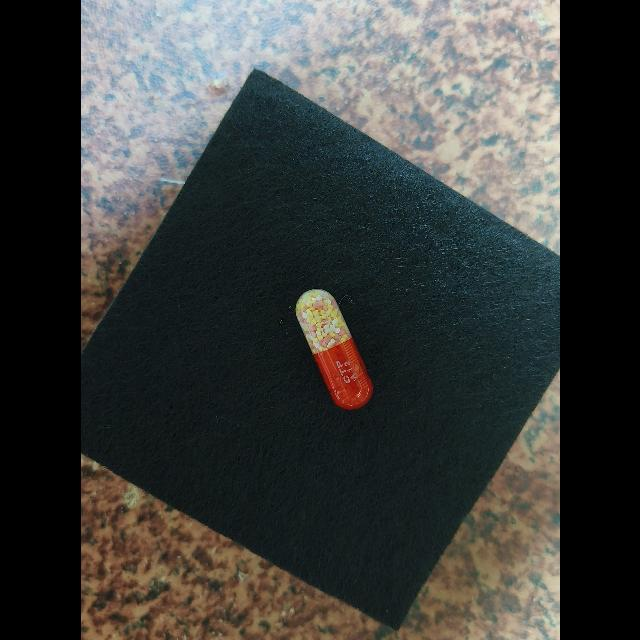Intact Capsule: (295, 289, 373, 410)
